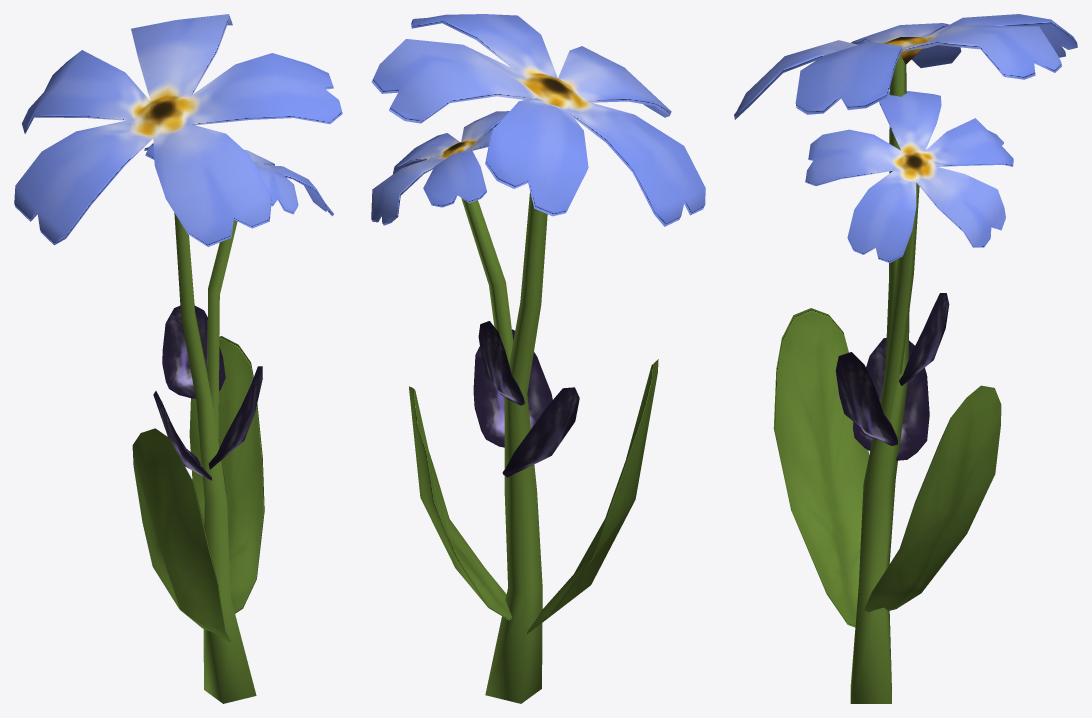
File: Wildflower_Myosotis.fbx
The picture shows the model from 3 angles, left to right: view 1: azimuth 30°, elevation 25°; view 2: azimuth 150°, elevation 25°; view 3: azimuth 270°, elevation 25°; orthographic projection. The views are drawn at different scales.
Visible parts, largest first — view 1: WildFlower_Myosotis; view 2: WildFlower_Myosotis; view 3: WildFlower_Myosotis.
Part boxes in pixels (box(x1,y1,x2,y2)): WildFlower_Myosotis: box(14, 14, 342, 703); WildFlower_Myosotis: box(371, 14, 705, 703); WildFlower_Myosotis: box(734, 14, 1077, 703).
Size of the model in its own units: 0.2009 by 0.4294 by 0.1977.
